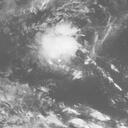cyclone: (32, 18, 88, 74)
